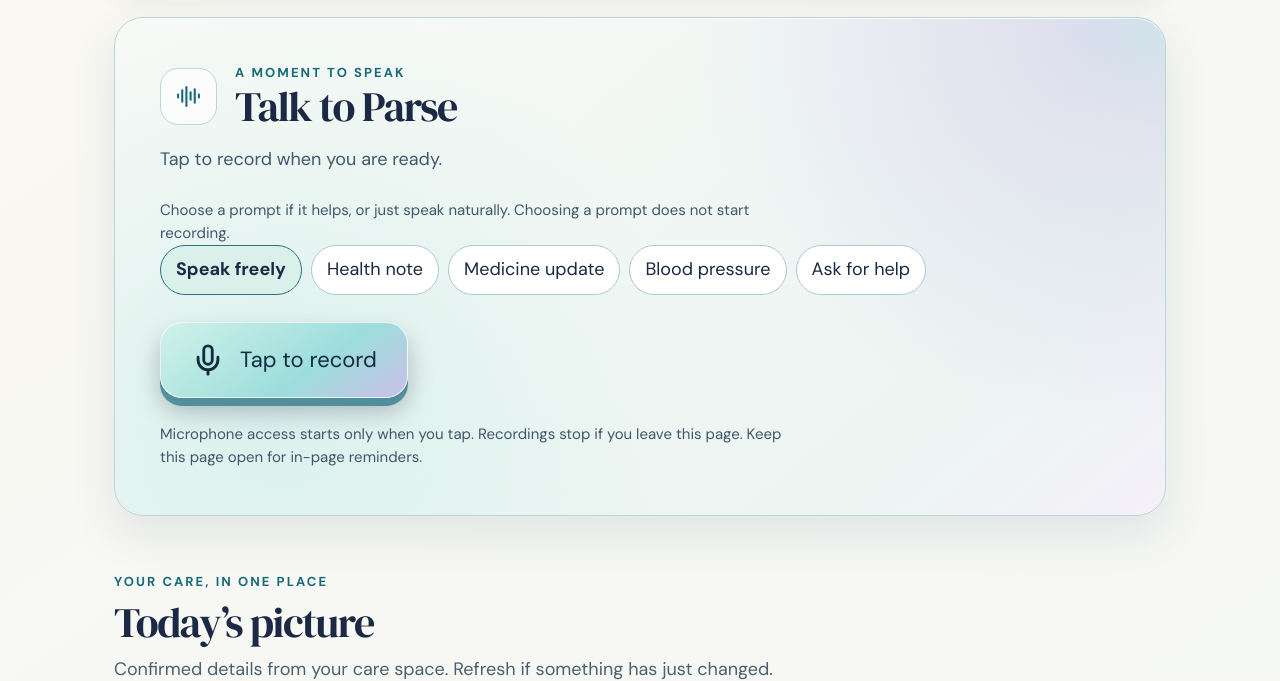
Test: keeps an aborted send checkable and ignores its late upload response
(page scrolled)
Click the button "Tap to record" at (284, 360), box [160,322,408,398]
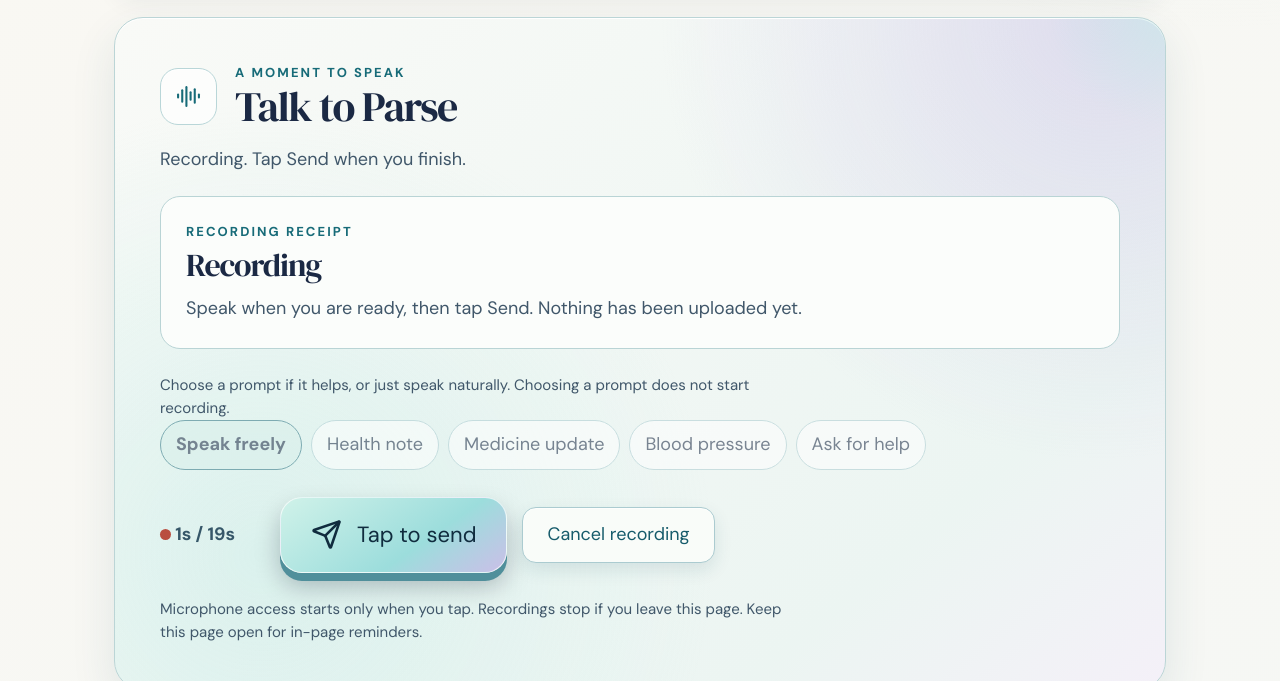
Click the button "Tap to send" at (394, 535), box [280,497,508,573]
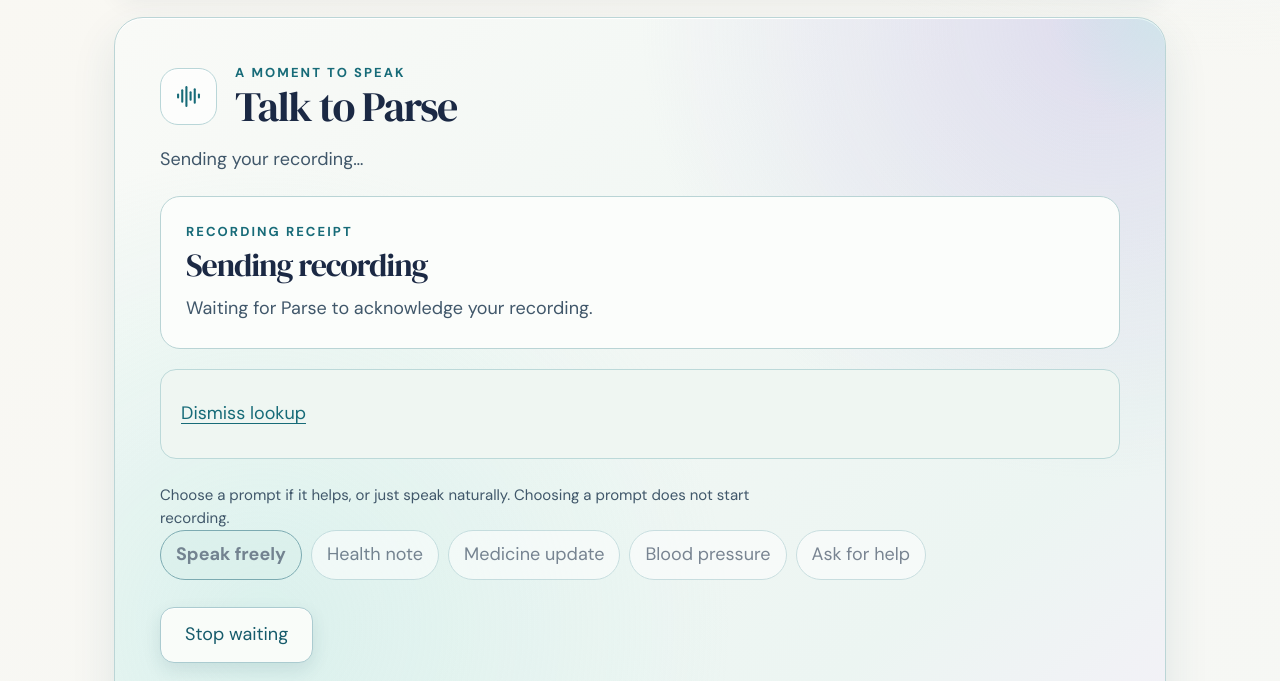
Click the button "Stop waiting" at (237, 635), box [160,607,313,663]
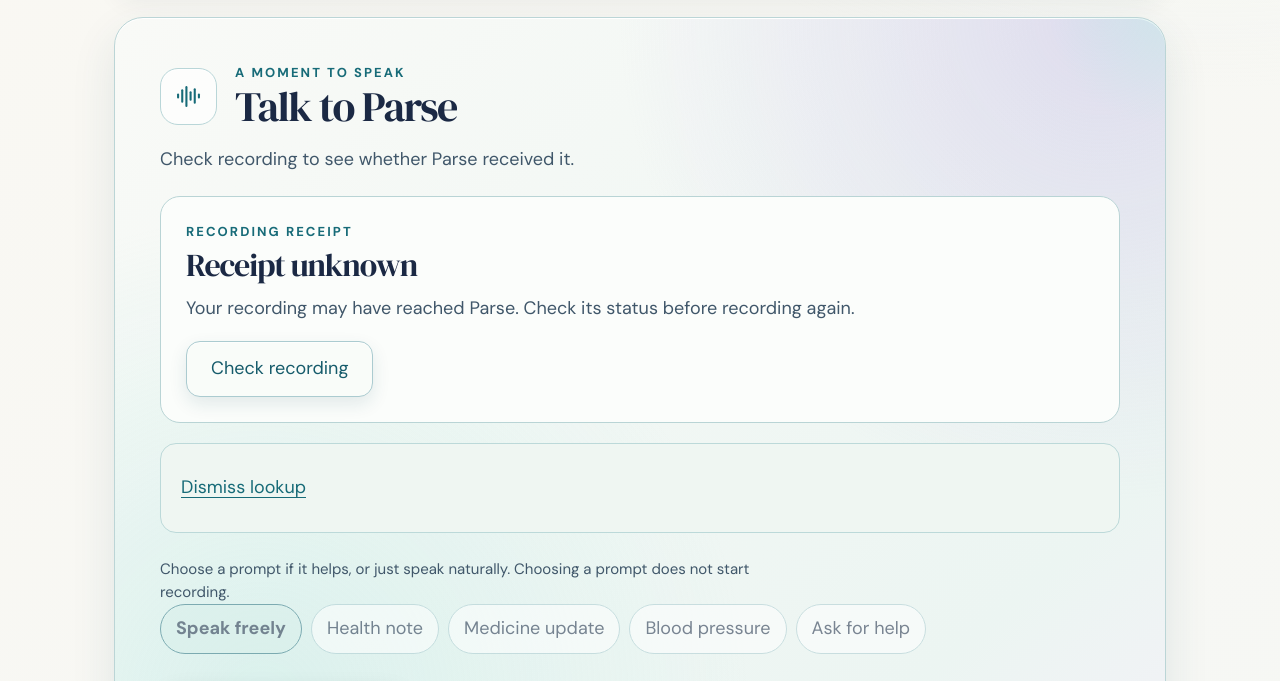
Check: the heading "Receipt unknown" is shown, box [186,243,417,287]
Click the button "Check recording" at (280, 369), box [186,341,374,397]
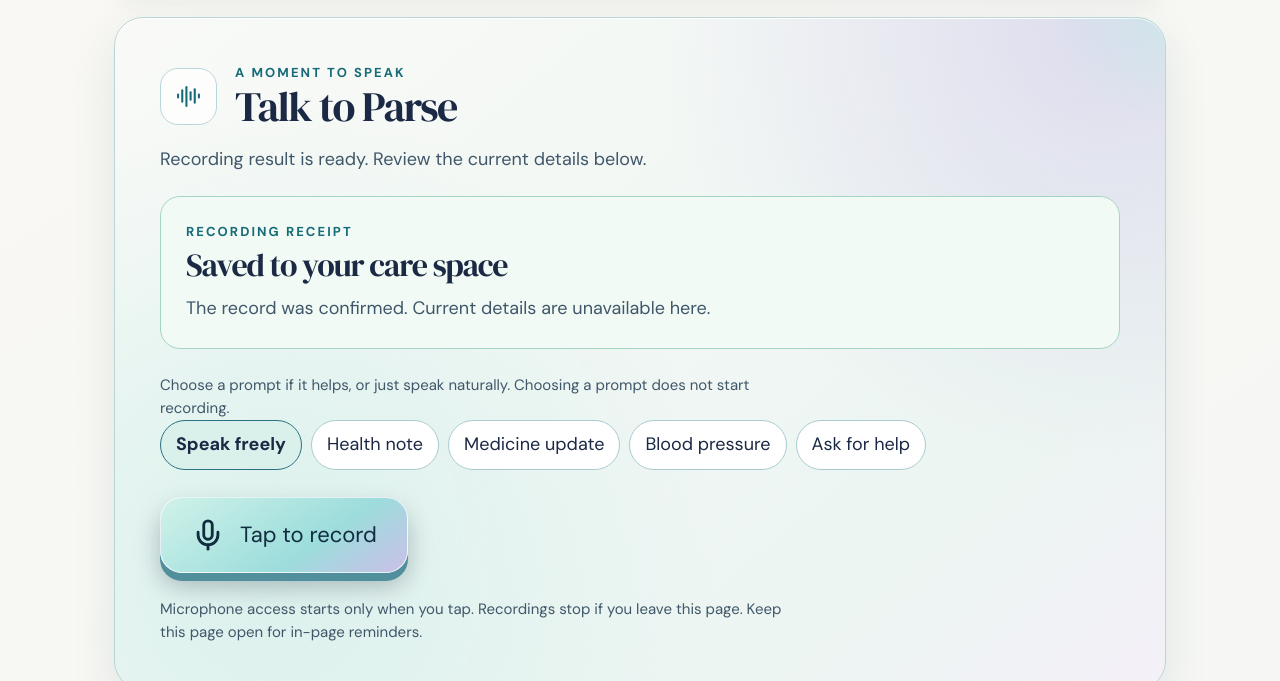
Check: the heading "Saved to your care space" is shown, box [186,243,508,287]
